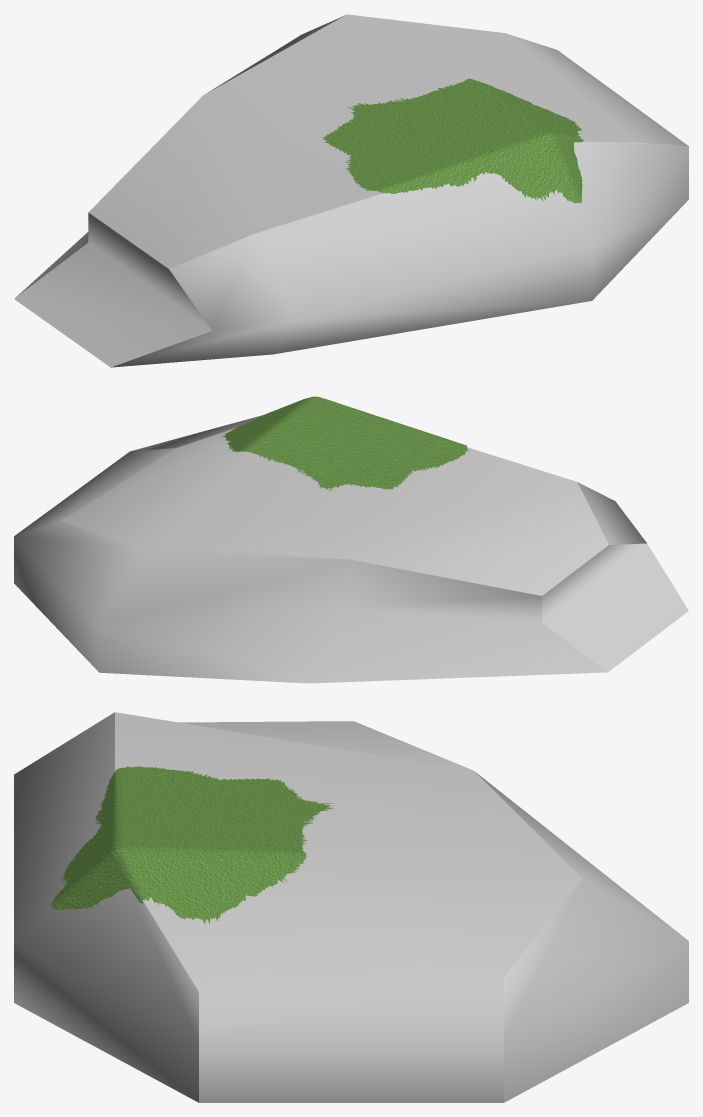
File: beachRock3.fbx
3 views of the same model, one above another, from view 1: azimuth 30°, elevation 25°; view 2: azimuth 150°, elevation 25°; view 3: azimuth 270°, elevation 25° (orthographic). The views are drawn at different scales.
Parts seen in each view (by area): view 1: beachRock_geo, grassPlane; view 2: beachRock_geo, grassPlane; view 3: beachRock_geo, grassPlane.
Boxes of the visible parts, left/top/right/bottom form: beachRock_geo: left=14, top=14, right=688, bottom=367; grassPlane: left=323, top=78, right=583, bottom=203; beachRock_geo: left=14, top=414, right=688, bottom=683; grassPlane: left=223, top=396, right=468, bottom=491; beachRock_geo: left=14, top=712, right=688, bottom=1102; grassPlane: left=51, top=766, right=333, bottom=924.
Size of the model in its own units: 4.97 by 1.05 by 4.11.
